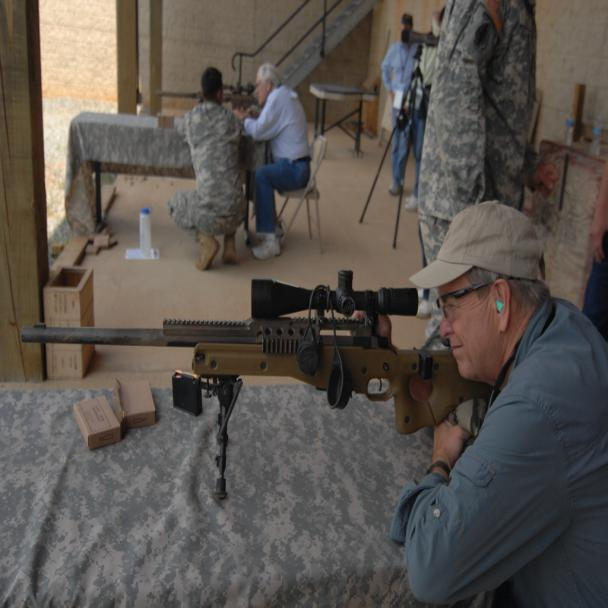Gun: (10, 248, 464, 457)
